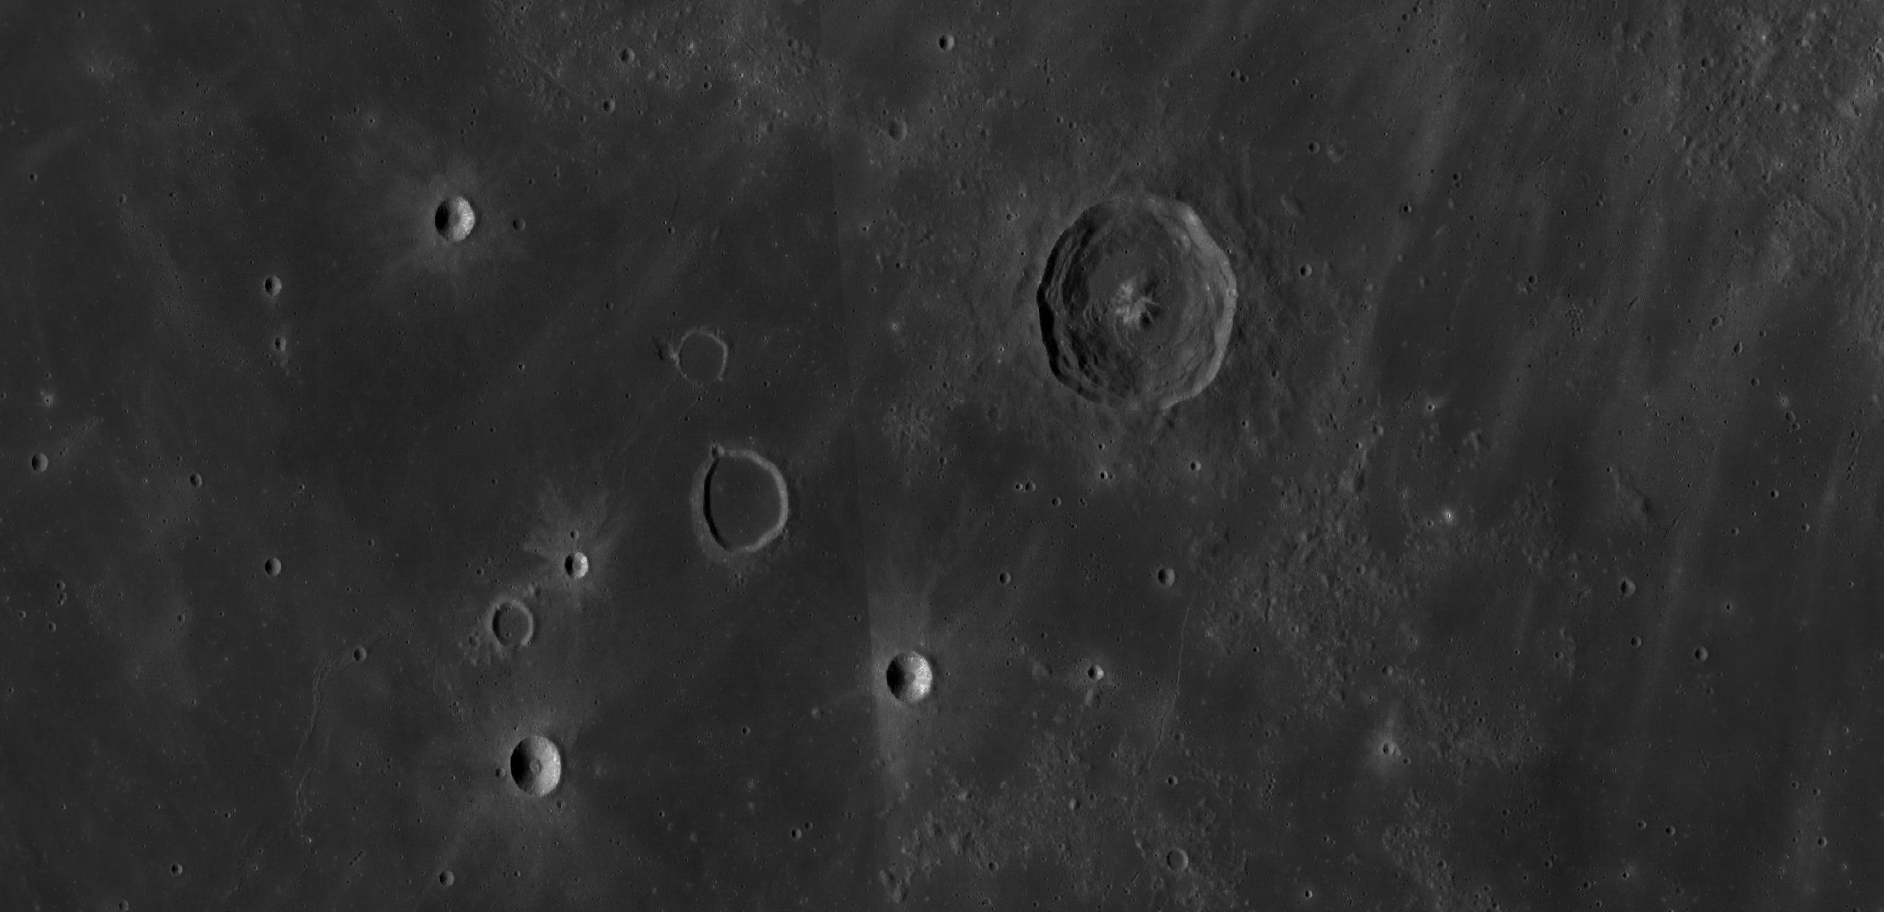crater: (1004, 151, 1264, 440), (436, 684, 642, 839), (675, 428, 860, 596), (375, 129, 519, 298), (215, 517, 350, 614), (640, 296, 745, 407), (527, 509, 634, 609), (1098, 524, 1187, 636), (865, 614, 965, 713), (1345, 707, 1442, 785), (227, 246, 318, 317), (898, 17, 972, 66), (1151, 831, 1210, 878), (1721, 515, 1749, 550), (1691, 634, 1716, 667)
